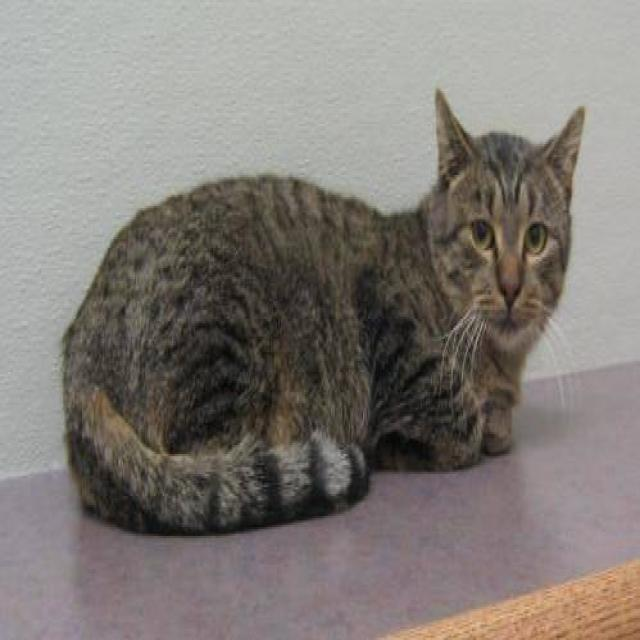Kucing: (38, 52, 610, 554)
